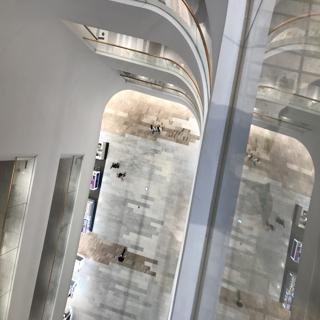person: (113, 169, 129, 188), (108, 156, 122, 172)
